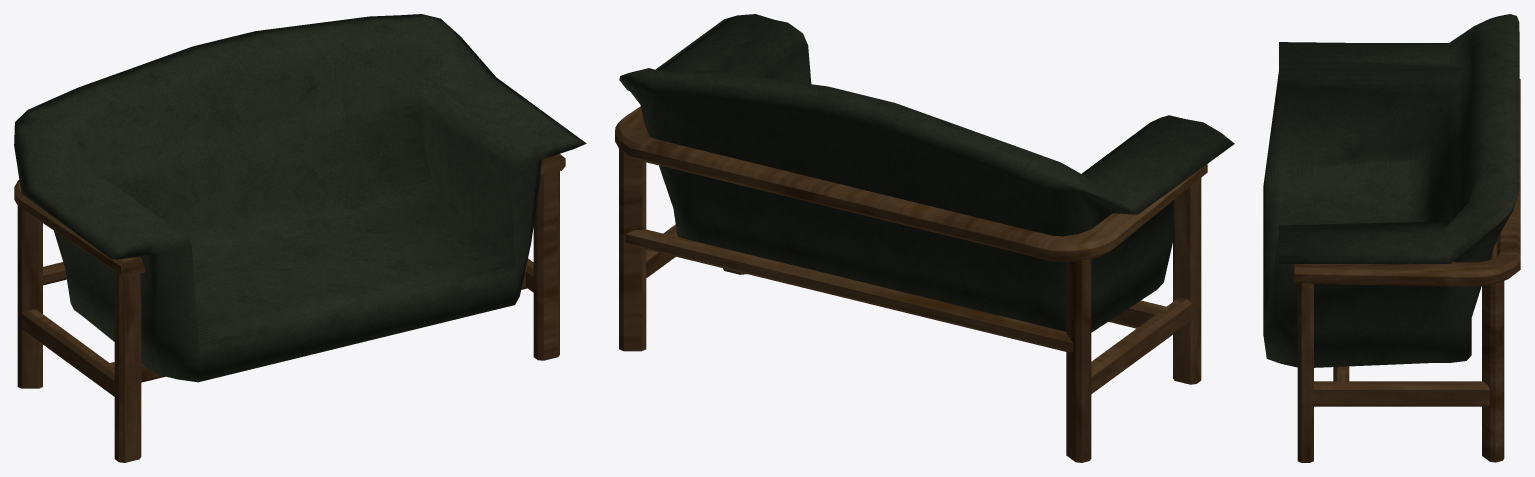
Rendered from LC_3005_ChairA_LOD2.FBX.
The picture shows the model from 3 angles, left to right: view 1: azimuth 30°, elevation 25°; view 2: azimuth 150°, elevation 25°; view 3: azimuth 270°, elevation 25°; orthographic projection. The views are drawn at different scales.
Visible parts, largest first — view 1: LC_3005_ChairA_LOD2; view 2: LC_3005_ChairA_LOD2; view 3: LC_3005_ChairA_LOD2.
Part boxes in pixels (x1,y1,x2,y2): LC_3005_ChairA_LOD2: (14, 14, 586, 462); LC_3005_ChairA_LOD2: (615, 14, 1234, 462); LC_3005_ChairA_LOD2: (1263, 14, 1520, 462).
Bounding box in the file's own units: 129 × 74.34 × 63.5.
1 material, 1 textured.
